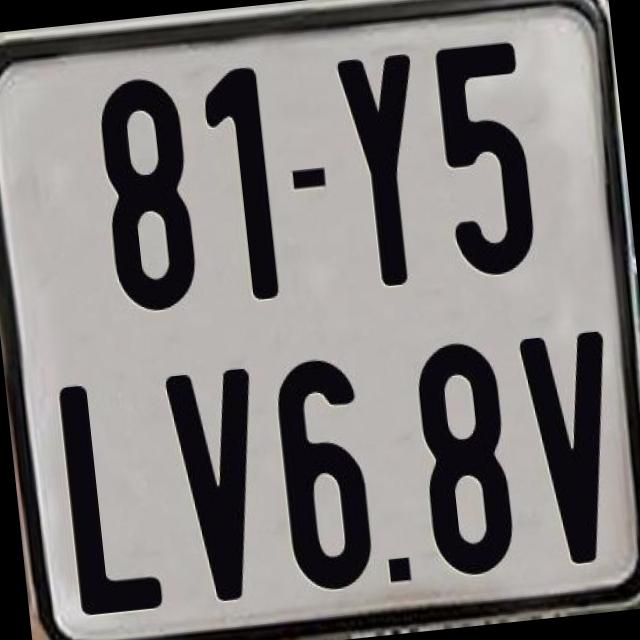1: (198, 67, 276, 306)
5: (429, 40, 541, 288)
6: (269, 352, 375, 591)
8: (410, 334, 520, 584), (92, 72, 199, 318)
L: (53, 374, 164, 616)
V: (160, 364, 274, 611), (514, 330, 628, 569)
Y: (334, 50, 438, 292)
